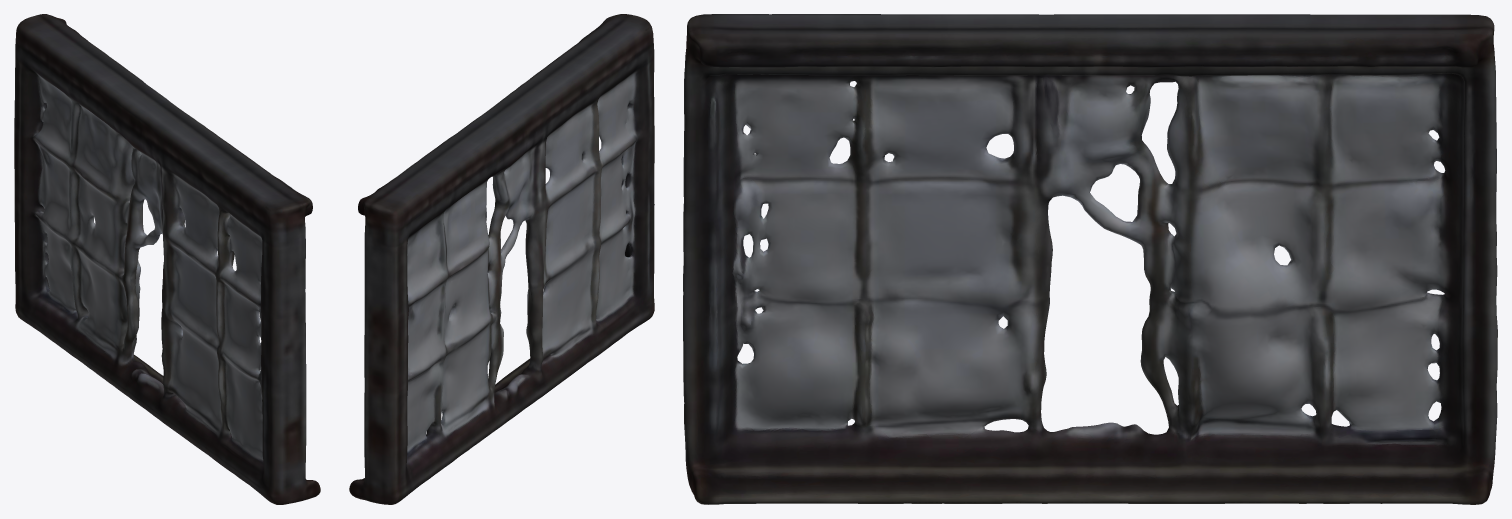
Rendered from Window-3.glb.
The picture shows the model from 3 angles, left to right: view 1: azimuth 30°, elevation 25°; view 2: azimuth 150°, elevation 25°; view 3: azimuth 270°, elevation 25°; orthographic projection. The views are drawn at different scales.
Parts seen in each view (by area): view 1: world; view 2: world; view 3: world.
Part boxes in pixels (x1,y1,x2,y2): world: [14, 14, 320, 504]; world: [349, 14, 654, 504]; world: [683, 14, 1497, 504].
Bounding box in the file's own units: 0.0591 × 0.3258 × 0.5209.
1 material, 1 textured.
